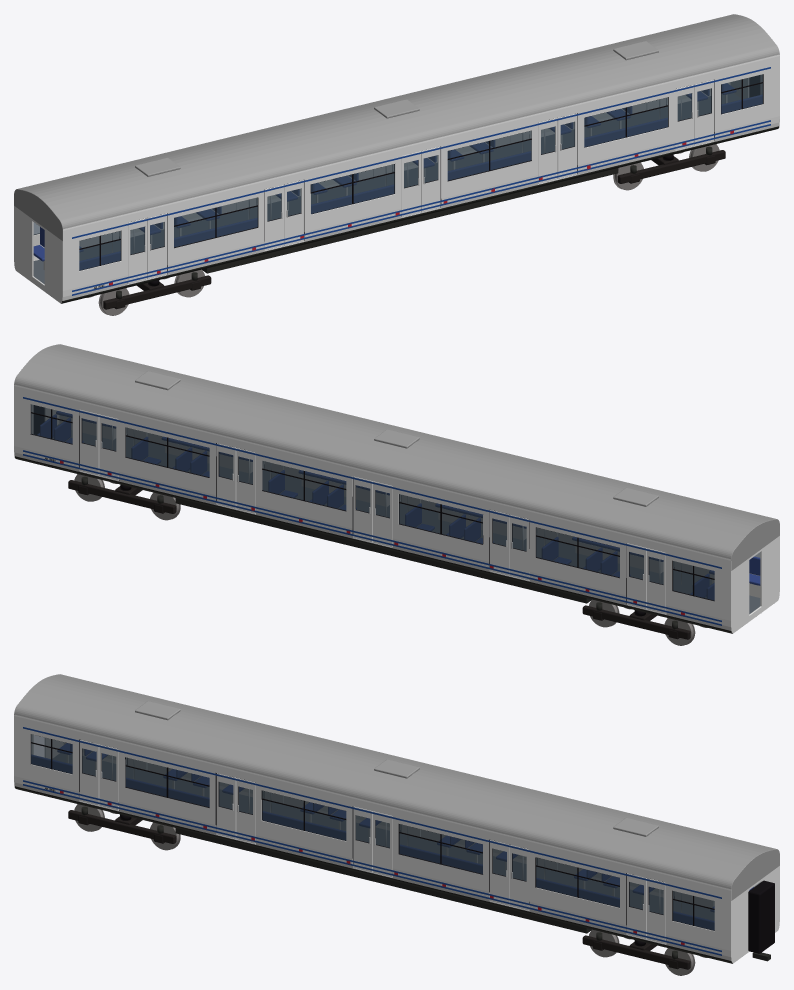
File: ms61_car.glb
3 renders of one model, top to bottom at view 1: azimuth 30°, elevation 25°; view 2: azimuth 150°, elevation 25°; view 3: azimuth 330°, elevation 25°, orthographic.
Visible parts, largest first — view 1: RER_MS61_Reno-US3_V2_Caisse, RER_MS61_Reno-US3_V2_BaieG1; view 2: RER_MS61_Reno-US3_V2_Caisse, RER_MS61_Reno-US3_V2_BaieG1; view 3: RER_MS61_Reno-US3_V2_Caisse, RER_MS61_Reno-US3_V2_BaieG1.
Boxes of the visible parts, x1=… form: RER_MS61_Reno-US3_V2_Caisse: x1=14, y1=14, x2=779, y2=315; RER_MS61_Reno-US3_V2_BaieG1: x1=33, y1=74, x2=762, y2=270; RER_MS61_Reno-US3_V2_Caisse: x1=14, y1=344, x2=779, y2=645; RER_MS61_Reno-US3_V2_BaieG1: x1=31, y1=404, x2=760, y2=600; RER_MS61_Reno-US3_V2_Caisse: x1=14, y1=674, x2=779, y2=975; RER_MS61_Reno-US3_V2_BaieG1: x1=31, y1=734, x2=760, y2=930.
Size of the model in its own units: 24.15 by 3.98 by 2.84.
3 materials, 1 textured.
